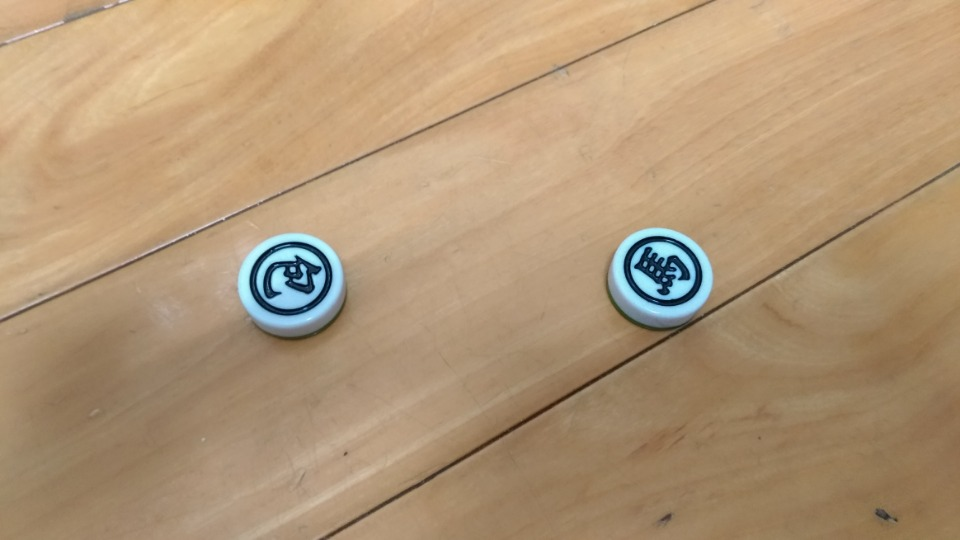b-cannon: (216, 225, 367, 350)
b-knight: (594, 210, 727, 341)
